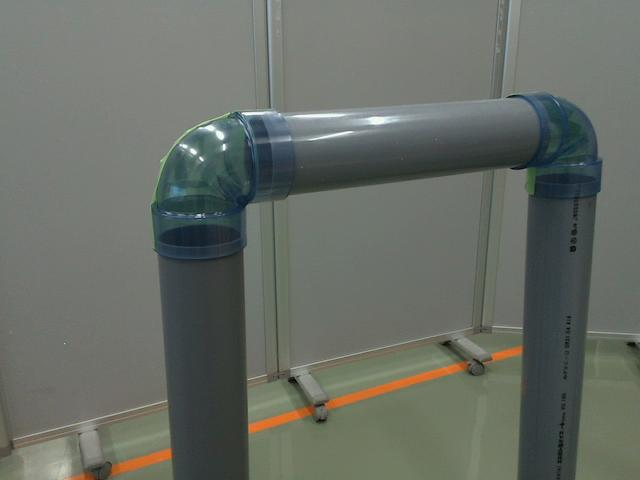bent: (153, 104, 290, 258), (501, 89, 602, 200)
